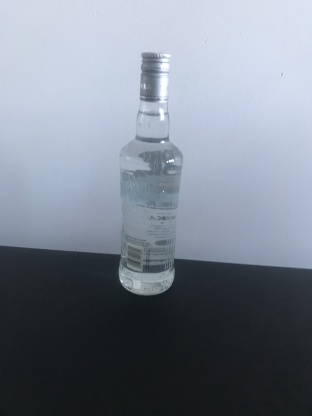nakretka: (138, 49, 171, 103)
